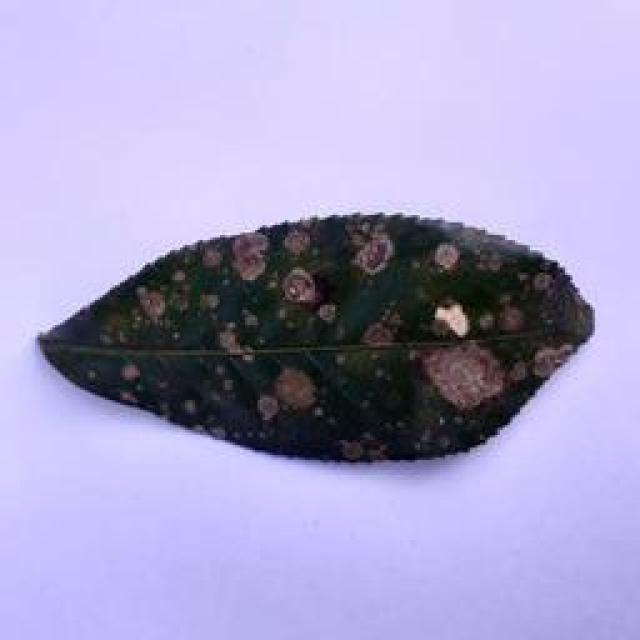Algal Leaf Spot: (31, 202, 604, 476)
